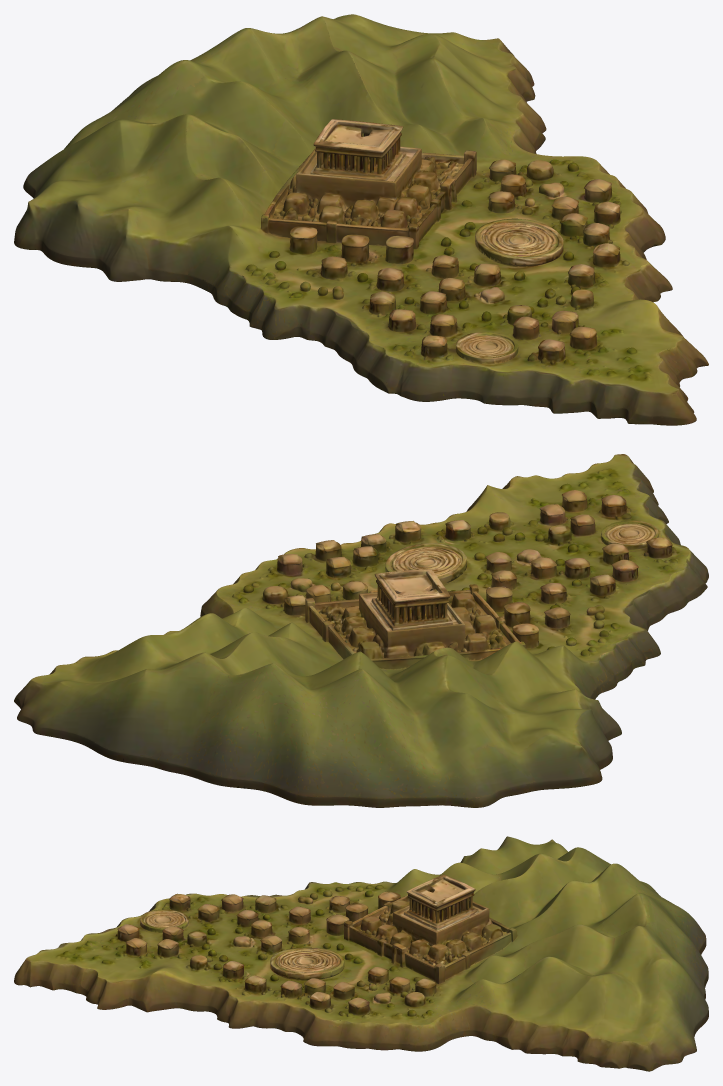
File: athina.glb
3 renders of one model, top to bottom at view 1: azimuth 30°, elevation 25°; view 2: azimuth 150°, elevation 25°; view 3: azimuth 270°, elevation 25°, orthographic. The views are drawn at different scales.
Visible parts, largest first — view 1: node_0; view 2: node_0; view 3: node_0.
Part boxes in pixels (x1,y1,x2,y2): node_0: [14, 14, 708, 425]; node_0: [14, 454, 708, 807]; node_0: [14, 836, 708, 1071].
Bounding box in the file's own units: 0.7541 × 0.1291 × 1.06.
Materials: 1 (1 with a texture image).
